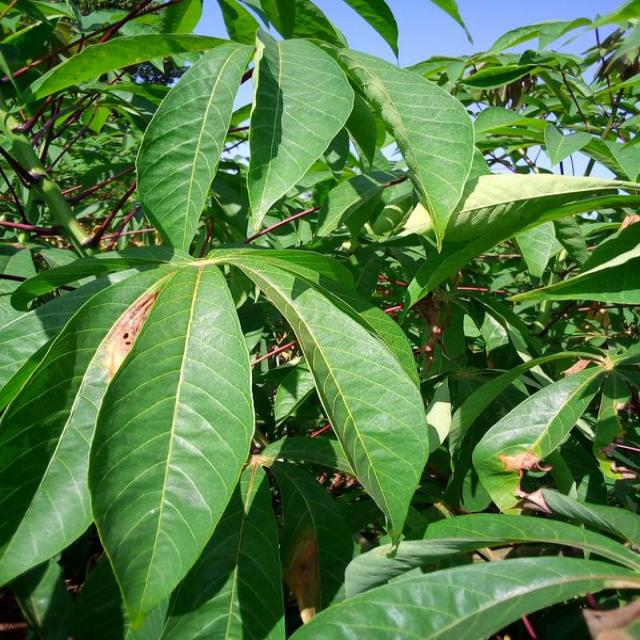cassava leaf: (207, 246, 430, 552), (86, 259, 255, 635), (134, 38, 254, 254), (246, 29, 354, 239)
